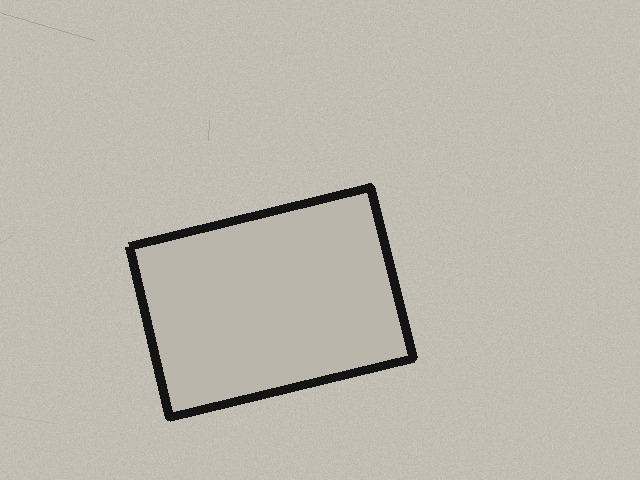parking_area: (129, 187, 413, 417)
